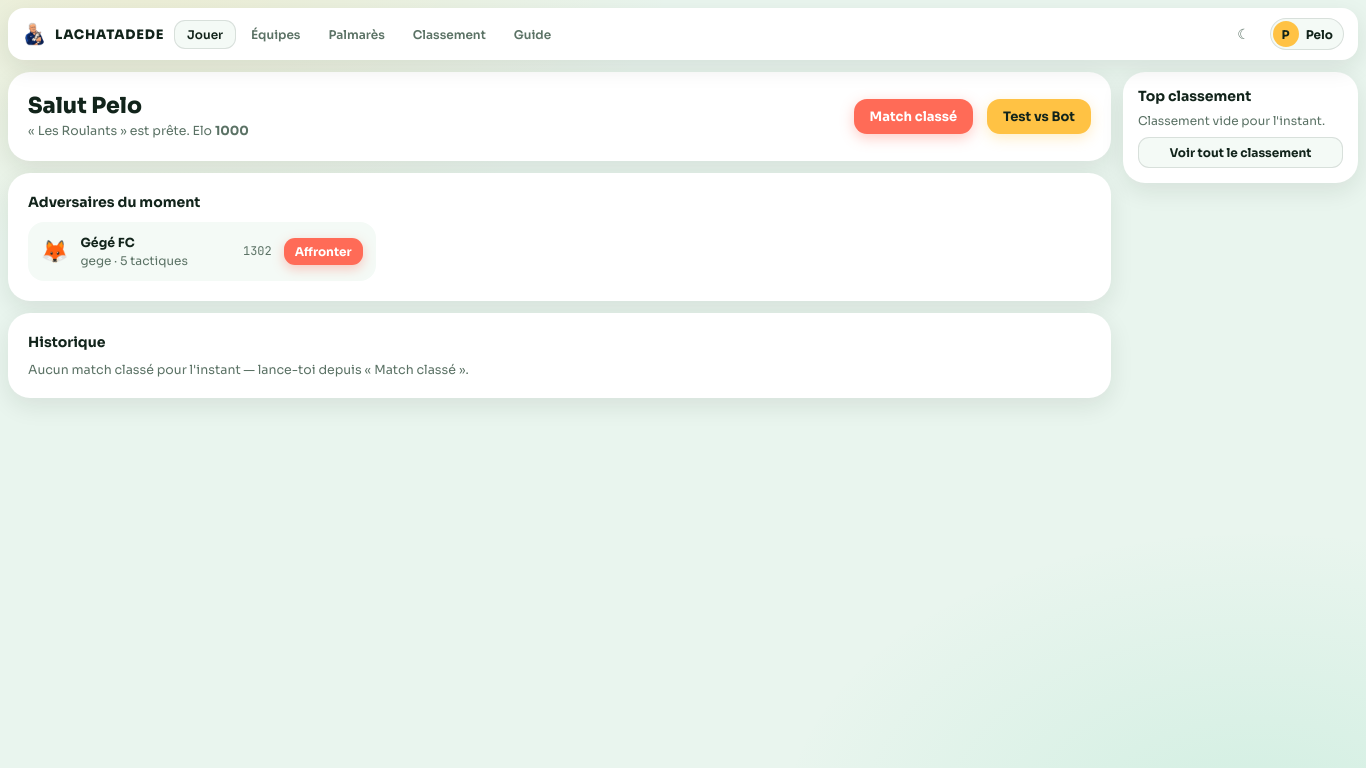
Test case: PlayPage (story 7.6) › ranked chooser › opens from an opponent card "Affronter" and challenges from the chooser
Click the button with test id "opponent-challenge-button" at x=323, y=251, box [284, 238, 363, 265]
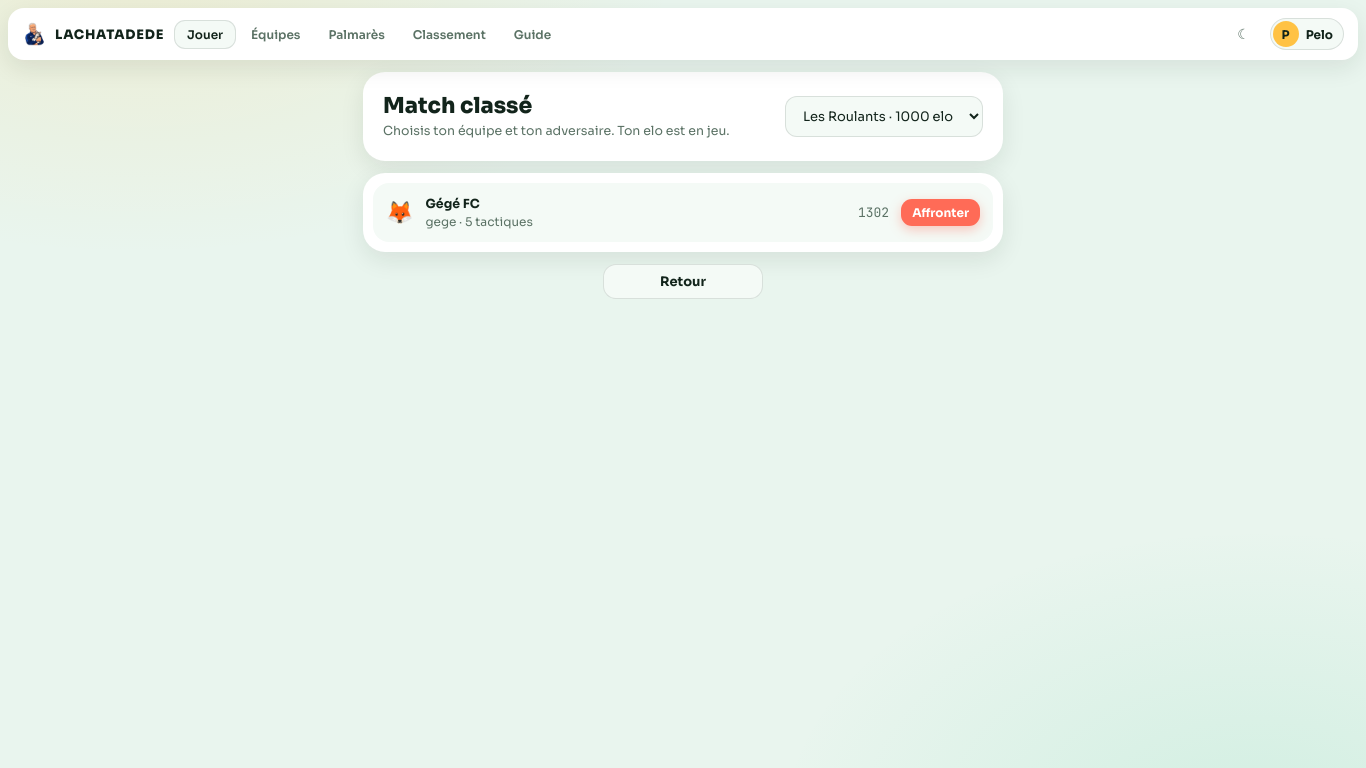
Click the button with test id "ranked-challenge-button" at x=941, y=212, box [901, 199, 980, 226]
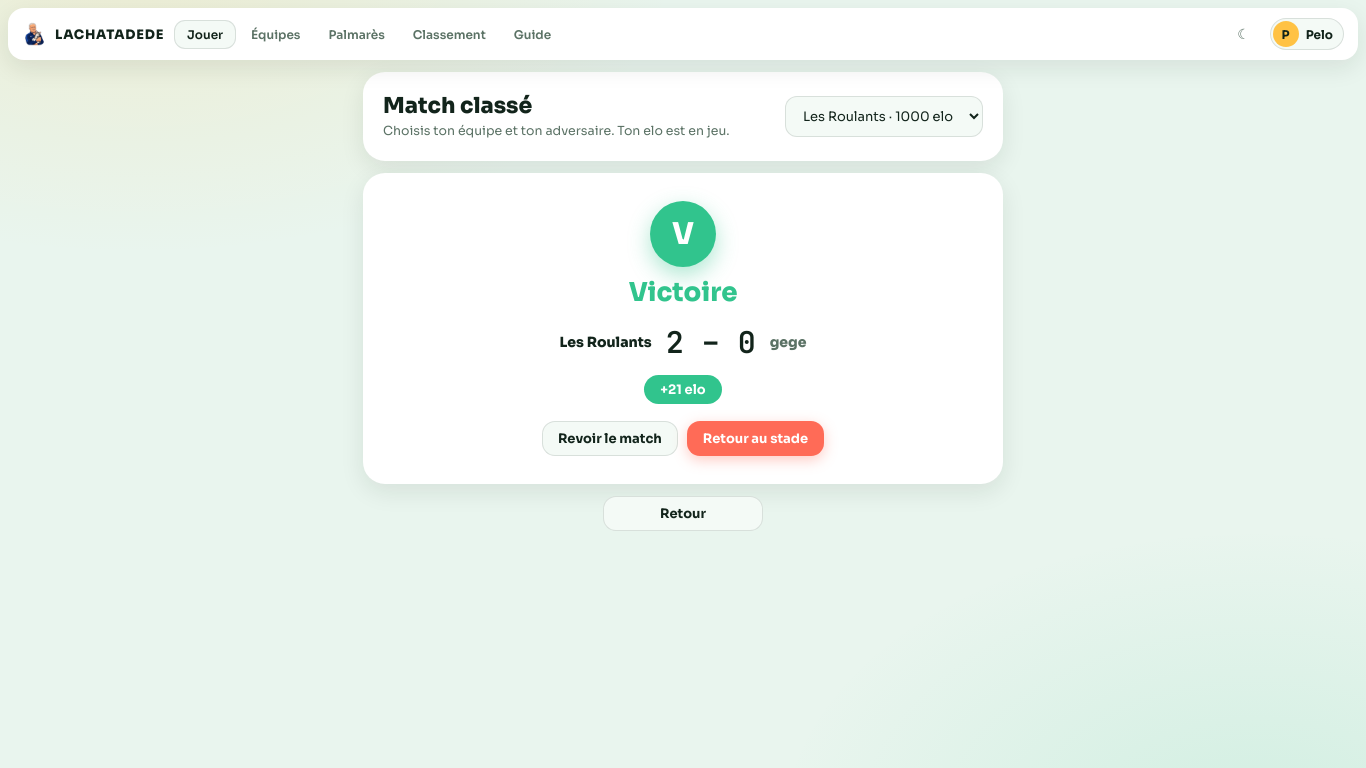
Expected: the element with test id "result-card" is shown, [542, 201, 824, 456]
Expected: the heading with test id "result-outcome" reads "Victoire", [628, 276, 738, 309]
